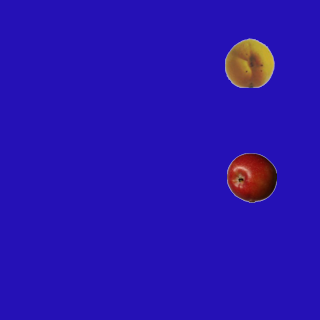Apple Braeburn: (226, 152, 276, 202)
Peach 2: (224, 37, 274, 87)
